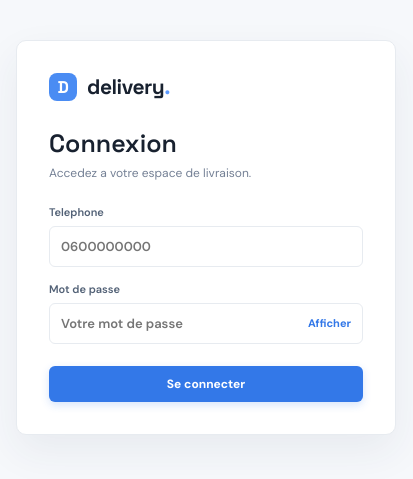
Test: allows another login attempt after an error without replaying it automatically
This screenshot has width=413, height=479.
In the field labelled "Telephone": (206, 246) [49, 226, 363, 266], type "0600000099"
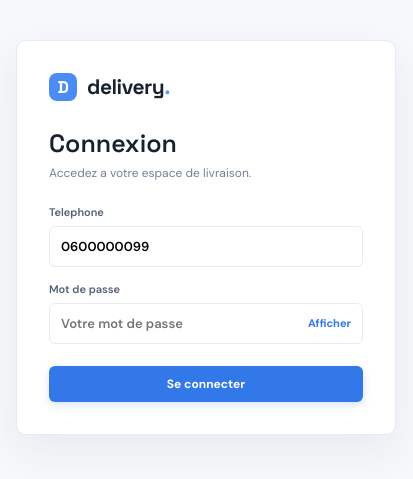
In the password field labelled "Mot de passe Afficher": (206, 323) [49, 302, 363, 344], type "test"
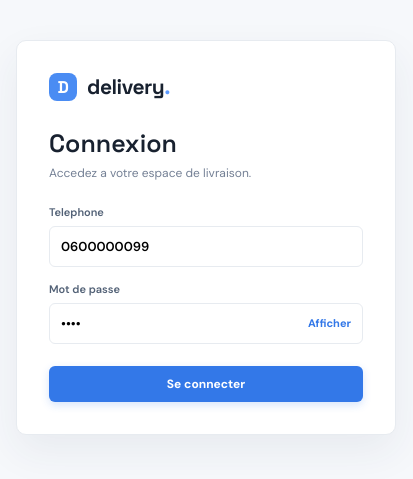
Click the button "Se connecter": (206, 384) [49, 366, 363, 402]
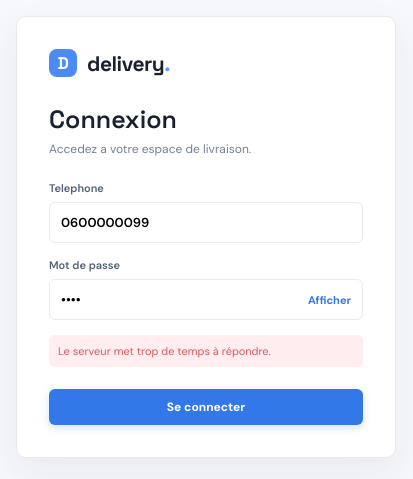
expect the button "Se connecter" is enabled: met, box [49, 389, 363, 425]
expect the text "Le serveur met trop de temps à répondre." is shown: met, box [49, 335, 363, 367]
